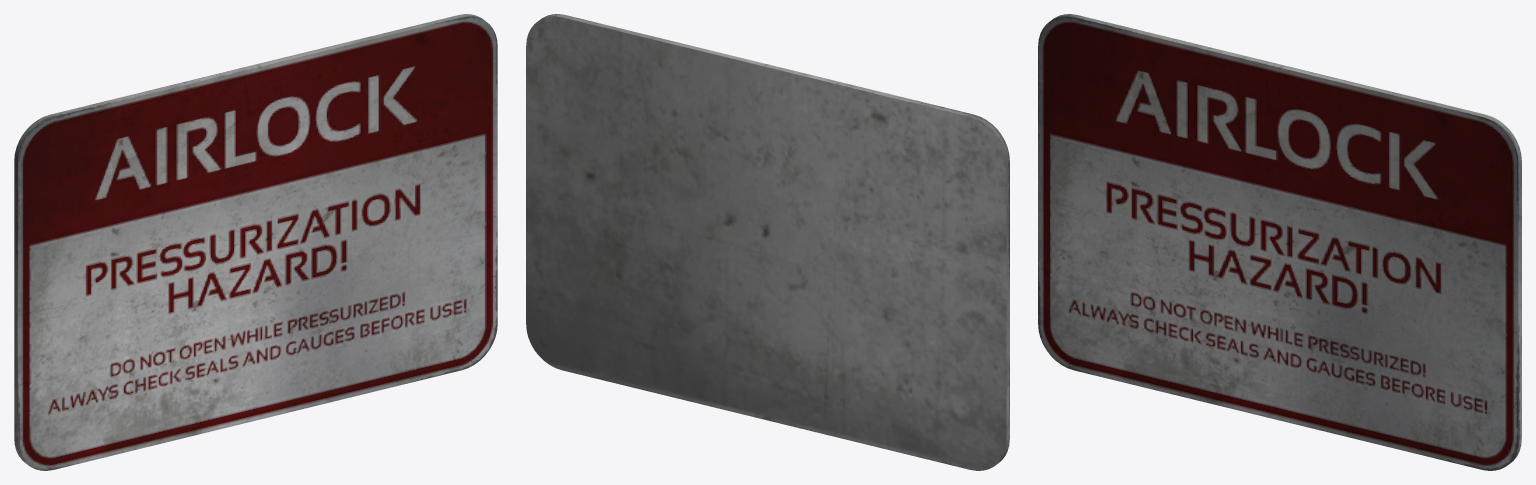
The model's file is sign_warning_airlock.dae.
3 renders of one model, left to right at view 1: azimuth 30°, elevation 25°; view 2: azimuth 150°, elevation 25°; view 3: azimuth 330°, elevation 25°, orthographic.
Visible parts, largest first — view 1: sign_warning_airlock; view 2: sign_warning_airlock; view 3: sign_warning_airlock.
Boxes of the visible parts, x1,y1,x2,y2 form: sign_warning_airlock: (14, 14, 497, 470); sign_warning_airlock: (526, 14, 1009, 470); sign_warning_airlock: (1038, 14, 1521, 470).
Bounding box in the file's own units: 0.3985 × 0.2798 × 0.00488.
Materials: 1 (1 with a texture image).
